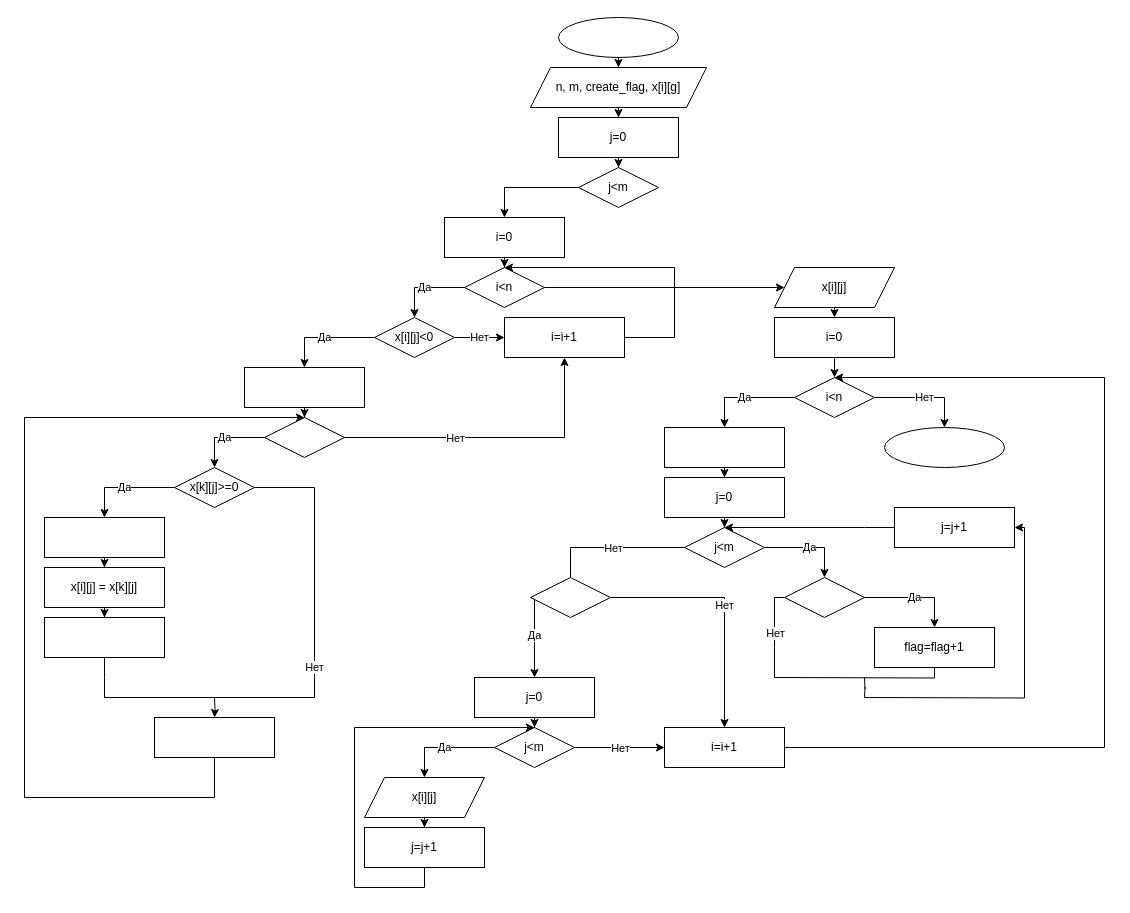
Some shapes in this 1130 by 913 pixel diagram are drawn without their labels. Each missing label, with the centre of its shape:
"flag=0" goes at [724,447].
"flag=m" goes at [570,597].
"k=k-1" goes at [214,737].
"k=n-1" goes at [304,387].
"k>i" goes at [304,437].
"temp = x[i][j]" goes at [104,537].
"x[i][j]>=0" goes at [824,597].
"x[k][j] = temp" goes at [104,637].
"Конец" goes at [944,447].
"Начало" goes at [618,37].
